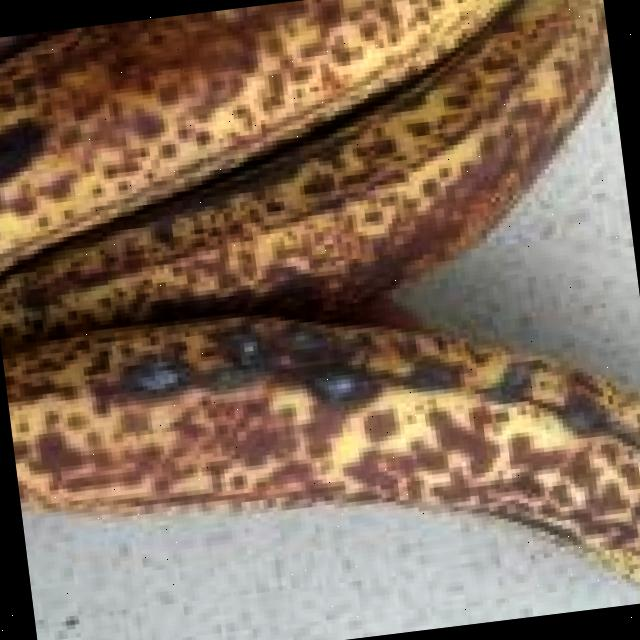Bad_Banana-0 day: (0, 0, 640, 584)
